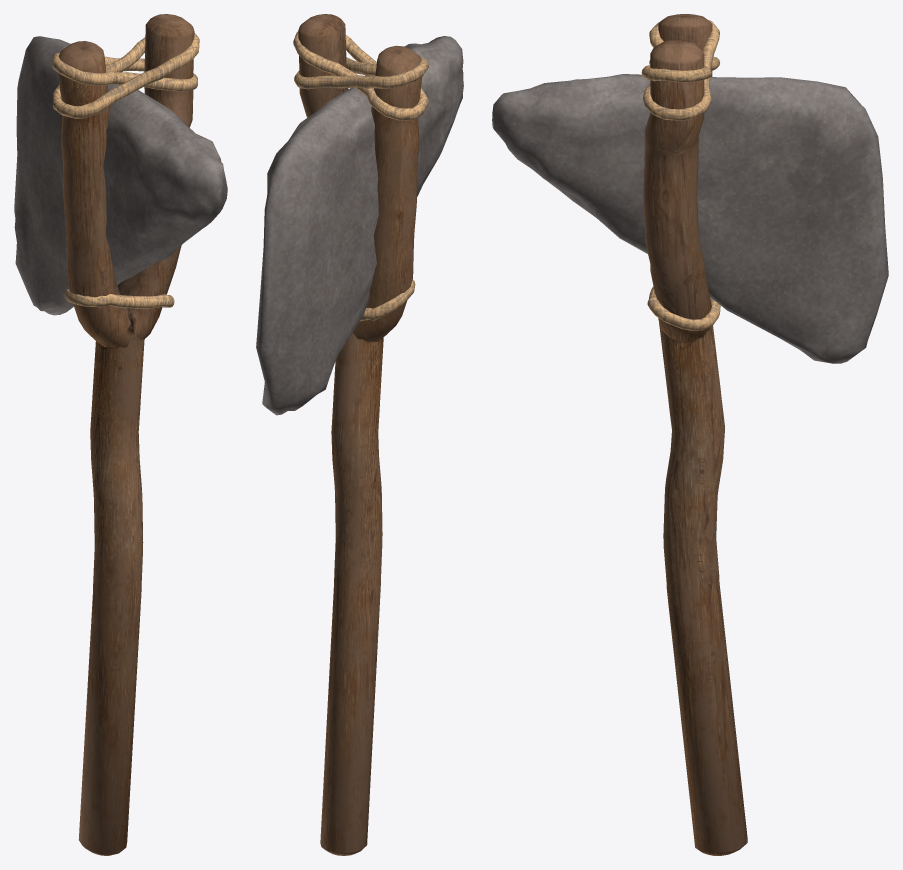
Rendered from StoneAxe.fbx.
3 renders of one model, left to right at view 1: azimuth 30°, elevation 25°; view 2: azimuth 150°, elevation 25°; view 3: azimuth 270°, elevation 25°, orthographic. The views are drawn at different scales.
Parts seen in each view (by area): view 1: Stick handle, Rock blade, Ropes; view 2: Stick handle, Rock blade, Ropes; view 3: Rock blade, Stick handle, Ropes.
Part boxes in pixels (x1,y1,x2,y2): Stick handle: [58, 14, 194, 855]; Rock blade: [14, 36, 227, 315]; Ropes: [52, 33, 199, 308]; Stick handle: [298, 14, 422, 855]; Rock blade: [256, 36, 463, 415]; Ropes: [293, 31, 428, 321]; Rock blade: [492, 74, 888, 363]; Stick handle: [643, 14, 747, 855]; Ropes: [641, 18, 720, 330].
Size of the model in its own units: 0.127 by 0.7597 by 0.3295.
